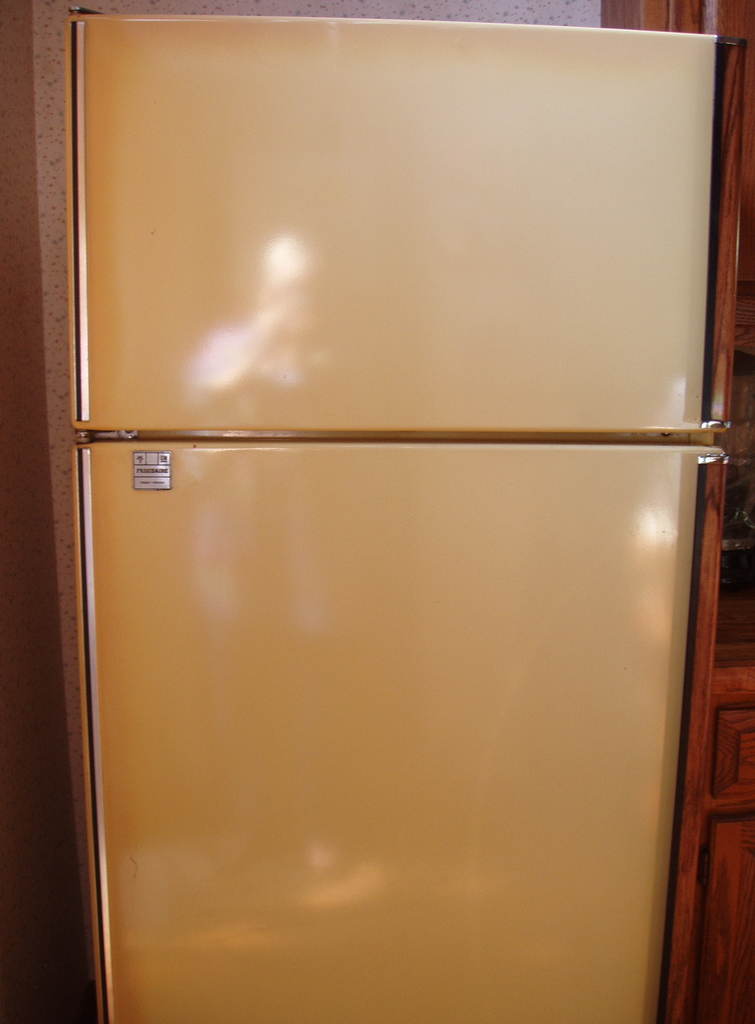handle: (677, 468, 721, 1024), (706, 50, 742, 424)
refrigerator door: (77, 454, 702, 1024), (67, 38, 726, 438)
